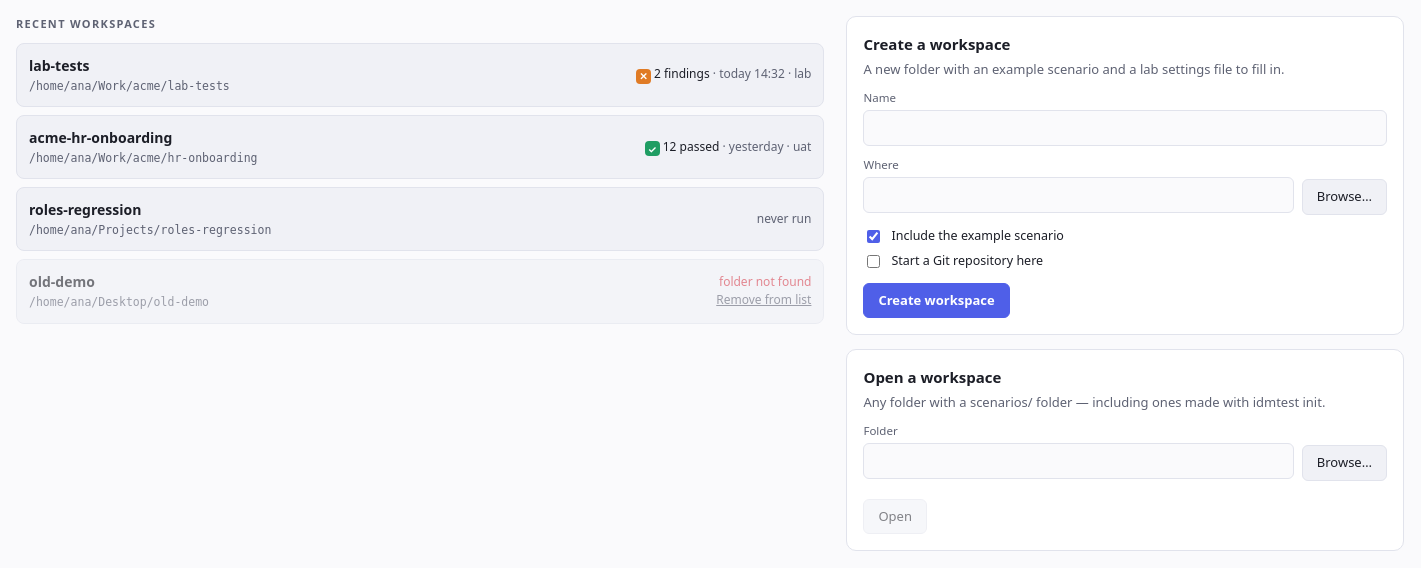
it: StartPage › greys a folder that no longer exists and offers to remove it from the list
The image size is (1421, 568).
Check: the text "folder not found" is shown, box [719,273,811,290]
Click the button "Remove from list" at x=764, y=300, box [716,291,812,309]
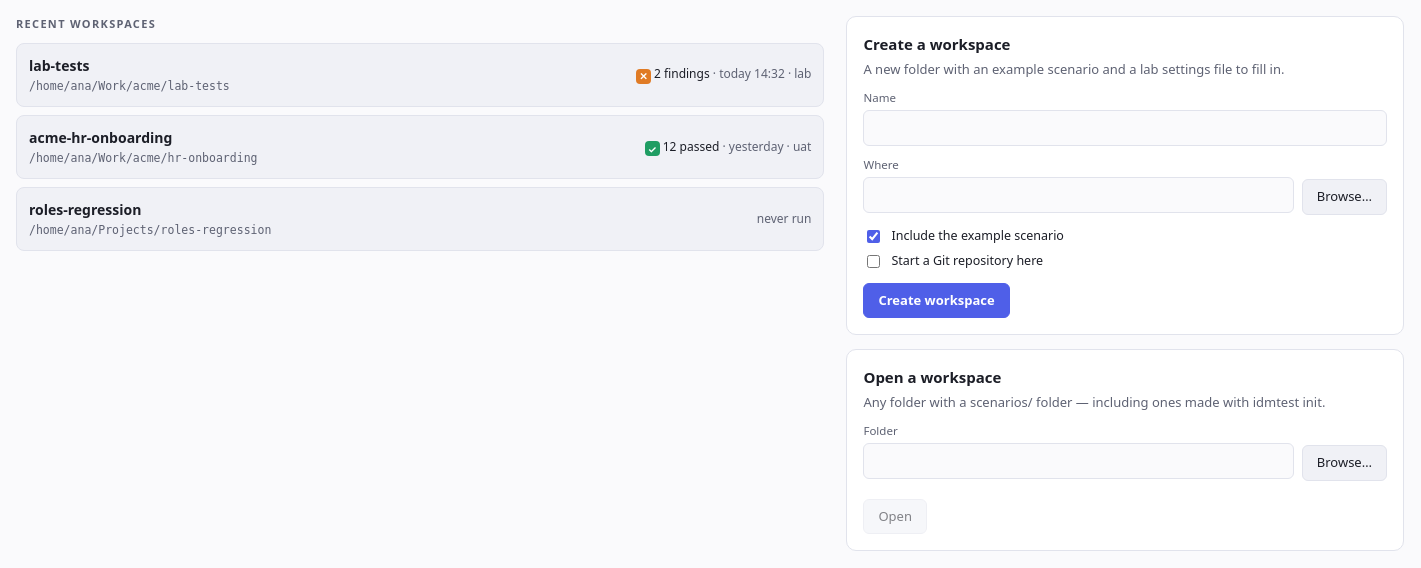
Check: the text "old-demo" is gone
